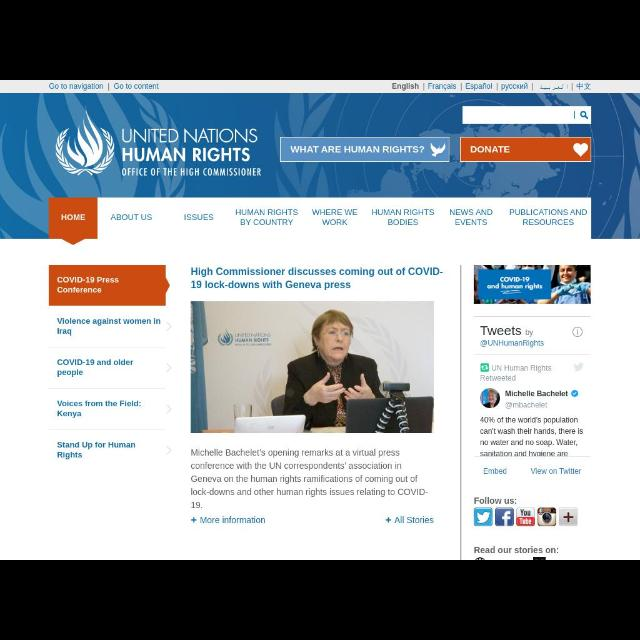backgroundimage: (1, 94, 640, 238)
icon: (572, 142, 590, 158), (430, 142, 444, 156), (572, 322, 582, 338), (572, 361, 586, 372), (579, 108, 589, 120), (164, 322, 172, 334), (164, 447, 172, 457), (166, 404, 172, 416), (167, 361, 171, 375)
image: (192, 302, 432, 432), (50, 110, 118, 187), (473, 262, 591, 304), (478, 387, 500, 409), (473, 509, 492, 525), (518, 507, 534, 525), (496, 509, 512, 525), (478, 365, 490, 373), (570, 390, 578, 396)
input: (464, 106, 590, 124)
multitab: (47, 196, 591, 238), (1, 81, 639, 92)
panel: (47, 261, 179, 467)
text: (192, 448, 426, 497), (121, 126, 261, 180), (190, 266, 444, 290), (480, 414, 584, 458), (56, 316, 162, 336), (56, 398, 142, 420), (54, 441, 140, 462), (480, 324, 548, 350), (504, 387, 570, 413), (56, 272, 122, 298), (507, 208, 589, 228), (370, 207, 438, 230), (57, 359, 131, 377), (236, 207, 298, 227), (394, 84, 592, 90), (312, 207, 358, 229), (452, 207, 492, 227), (189, 514, 267, 524), (491, 362, 553, 373), (475, 546, 559, 554), (50, 84, 158, 90), (108, 212, 152, 224), (387, 514, 437, 524), (530, 468, 584, 477), (472, 496, 520, 504), (60, 209, 86, 223), (479, 373, 517, 382), (182, 212, 214, 222), (482, 464, 508, 476), (192, 498, 202, 508)
textbutton: (280, 138, 448, 162), (461, 136, 592, 160)
toolbar: (1, 93, 640, 195)
